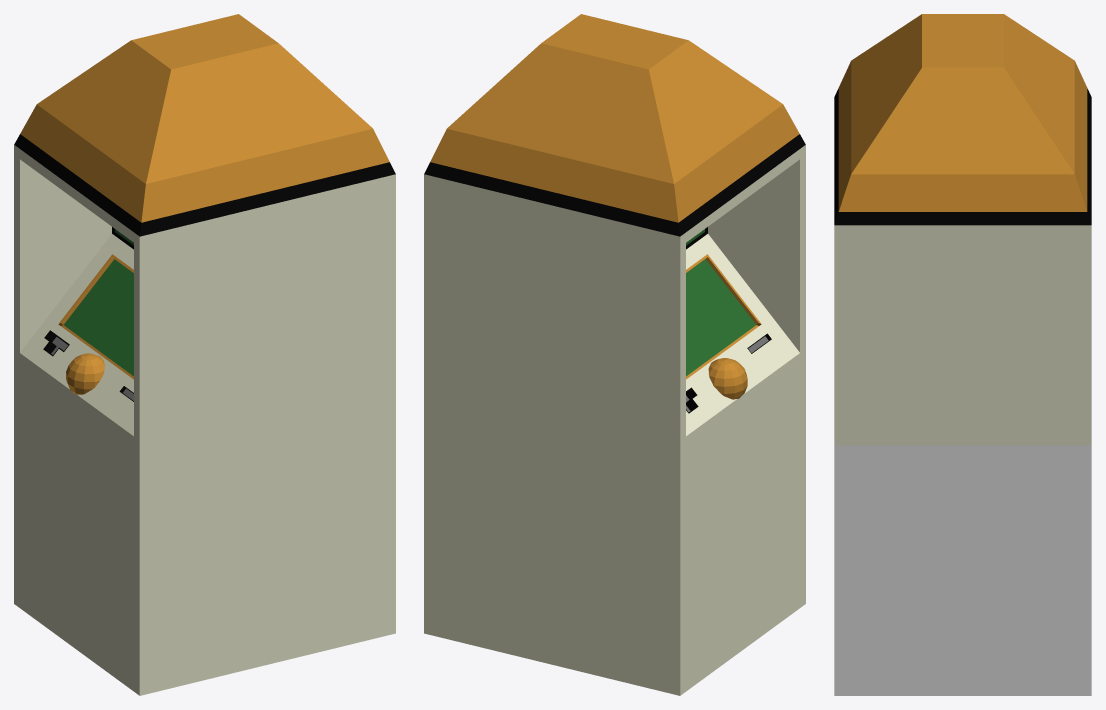
Rendered from LifeSupportComputer.glb.
The picture shows the model from 3 angles, left to right: view 1: azimuth 30°, elevation 25°; view 2: azimuth 150°, elevation 25°; view 3: azimuth 270°, elevation 25°; orthographic projection. The views are drawn at different scales.
Visible parts, largest first — view 1: Cube, LowerLifeSupportScreen, Sphere; view 2: Cube, LowerLifeSupportScreen, Sphere; view 3: Cube.
Part boxes in pixels (x1,y1,x2,y2): Cube: (14,14,395,695); LowerLifeSupportScreen: (64,259,133,376); Sphere: (66,353,104,394); Cube: (424,14,805,695); LowerLifeSupportScreen: (686,259,755,376); Sphere: (708,358,747,399); Cube: (834,14,1091,695).
Size of the model in its own units: 1.03 by 2.17 by 0.8568.
